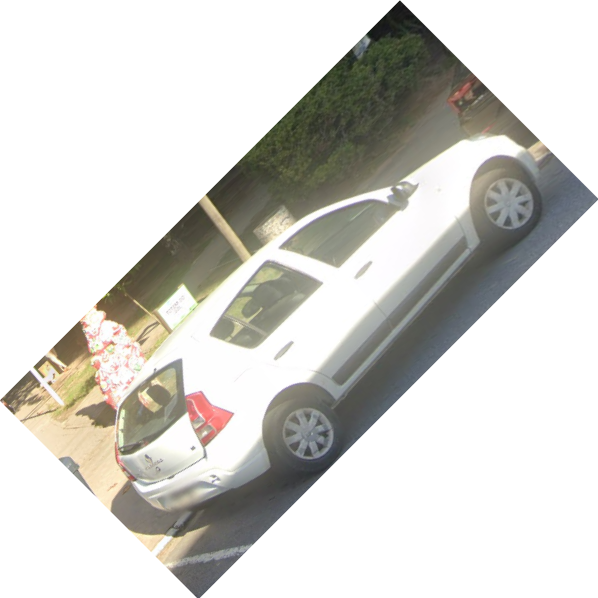car: (109, 132, 546, 512)
